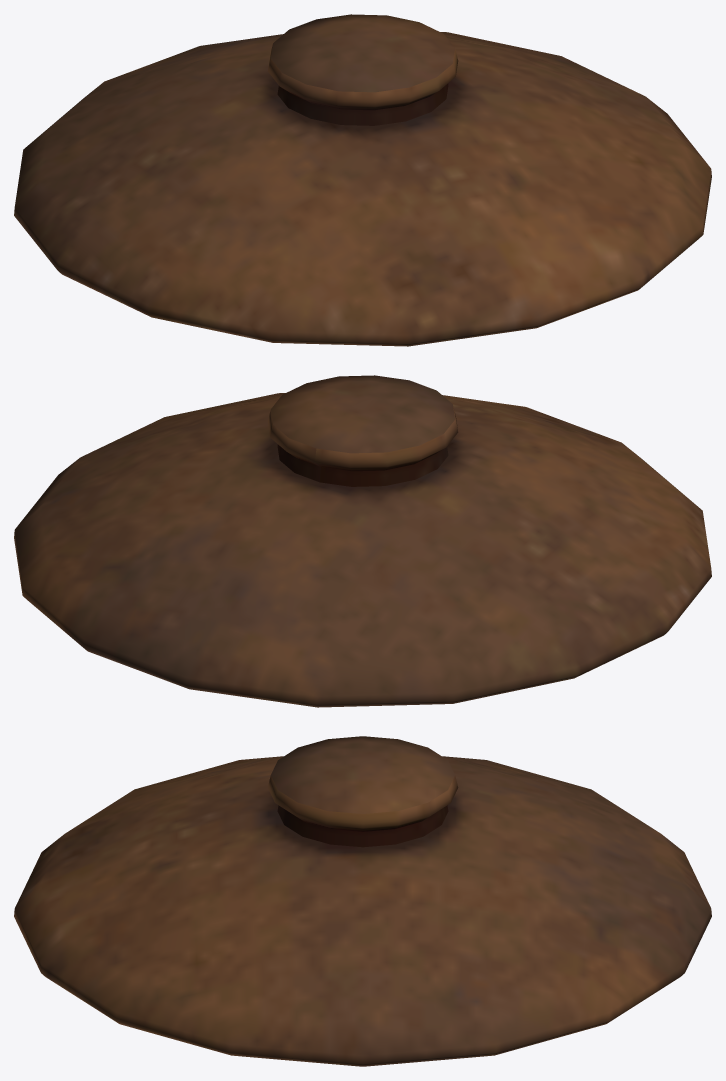
File: potteryLib01.FBX
The picture shows the model from 3 angles, top to bottom: view 1: azimuth 30°, elevation 25°; view 2: azimuth 150°, elevation 25°; view 3: azimuth 270°, elevation 25°; orthographic projection.
Parts seen in each view (by area): view 1: SM_PotteryLib01; view 2: SM_PotteryLib01; view 3: SM_PotteryLib01.
Part boxes in pixels (x1=…): SM_PotteryLib01: x1=14, y1=14, x2=711, y2=346; SM_PotteryLib01: x1=14, y1=375, x2=711, y2=707; SM_PotteryLib01: x1=14, y1=736, x2=711, y2=1066.
Bounding box in the file's own units: 27.65 × 6.99 × 27.65.
1 material, 1 textured.
